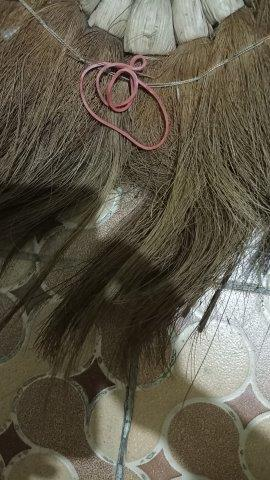karet: (80, 56, 169, 151)
